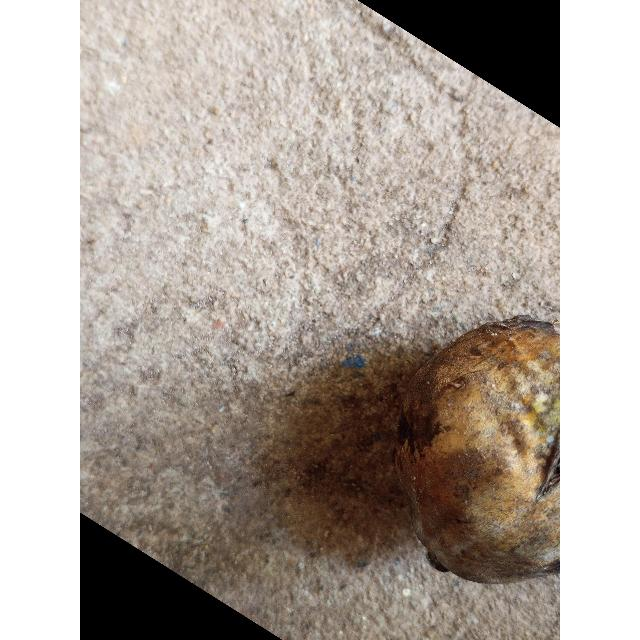damaged: (396, 316, 560, 583)
